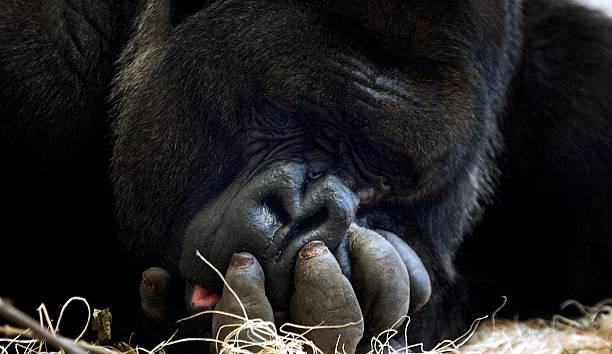gorille_Autres: (3, 0, 559, 341)
